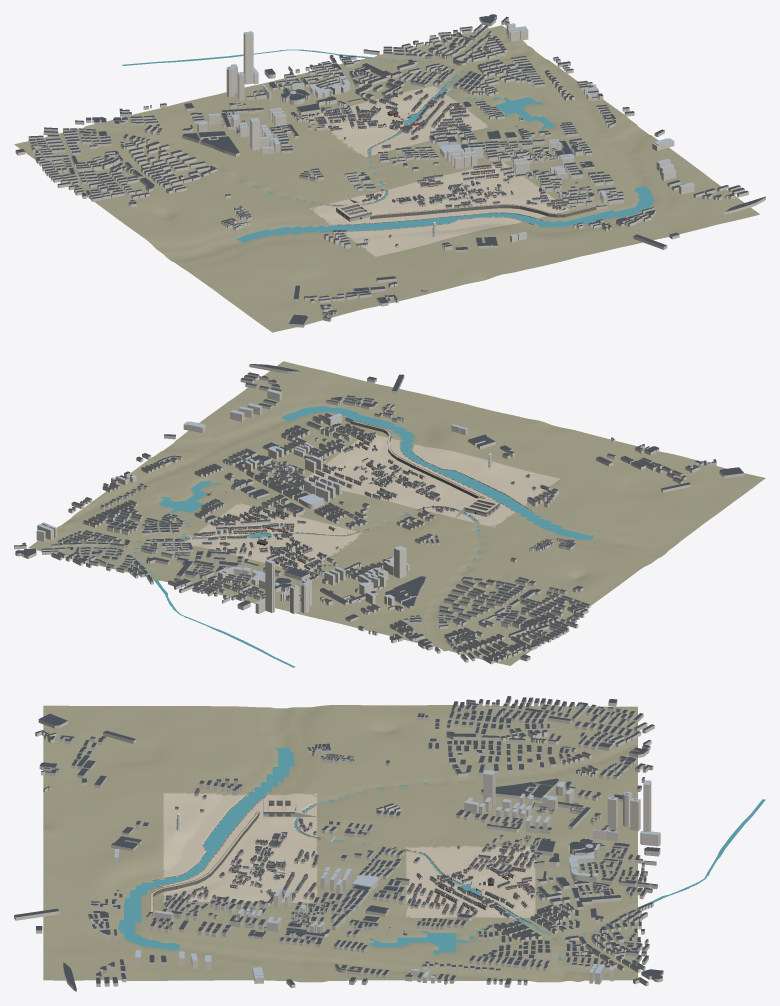
The model's file is static.glb.
The picture shows the model from 3 angles, top to bottom: view 1: azimuth 30°, elevation 25°; view 2: azimuth 150°, elevation 25°; view 3: azimuth 270°, elevation 25°; orthographic projection. The views are drawn at different scales.
Parts seen in each view (by area): view 1: Ground, Temple, Water, City, Walls; view 2: Ground, Temple, Water, City, Walls; view 3: Ground, Temple, Water, City, Walls.
Boxes of the visible parts, x1=… form: Ground: x1=14, y1=25, x2=759, y2=332; Temple: x1=15, y1=14, x2=765, y2=327; Water: x1=122, y1=49, x2=654, y2=242; City: x1=197, y1=23, x2=693, y2=236; Walls: x1=336, y1=204, x2=597, y2=219; Ground: x1=28, y1=361, x2=765, y2=665; Temple: x1=14, y1=364, x2=744, y2=664; Water: x1=102, y1=406, x2=593, y2=667; City: x1=37, y1=389, x2=467, y2=604; Walls: x1=351, y1=420, x2=500, y2=514; Ground: x1=43, y1=705, x2=637, y2=982; Temple: x1=14, y1=696, x2=663, y2=991; Water: x1=118, y1=747, x2=765, y2=960; City: x1=114, y1=770, x2=660, y2=977; Walls: x1=150, y1=799, x2=295, y2=915.
Size of the model in its own units: 2787 by 267 by 3035.
